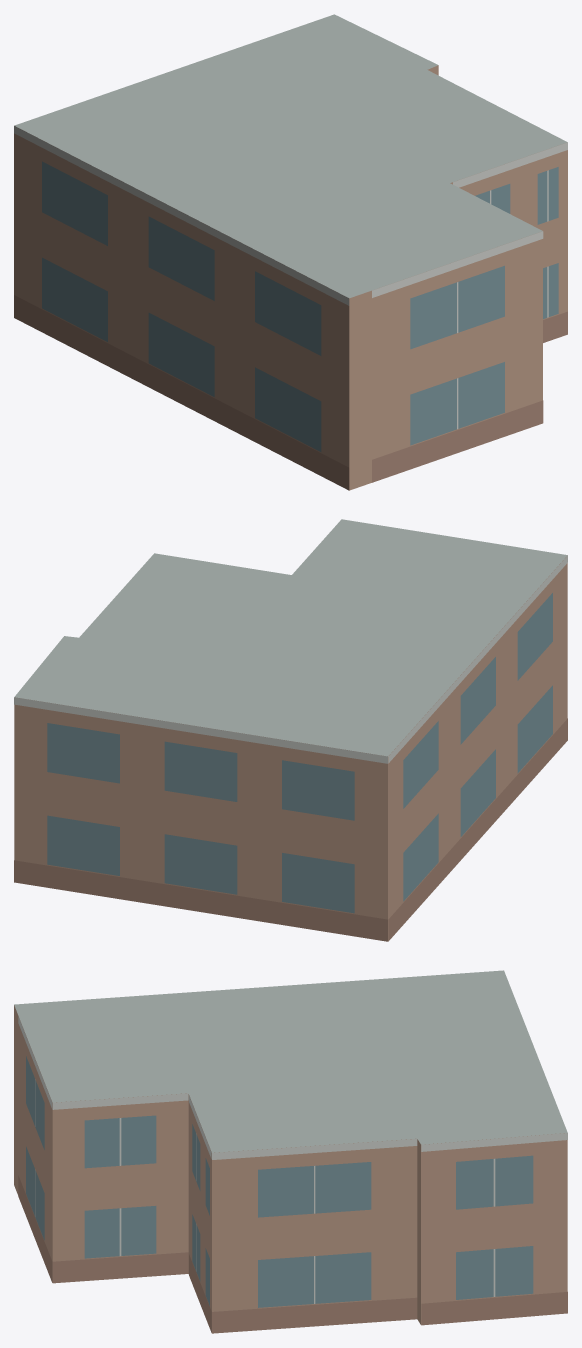
The model's file is survey-upis-32879588.glb.
3 renders of one model, top to bottom at view 1: azimuth 30°, elevation 25°; view 2: azimuth 150°, elevation 25°; view 3: azimuth 270°, elevation 25°, orthographic. The views are drawn at different scales.
Visible parts, largest first — view 1: survey-upis-32879588.tmp; view 2: survey-upis-32879588.tmp; view 3: survey-upis-32879588.tmp.
Part boxes in pixels (x1,y1,x2,y2): survey-upis-32879588.tmp: [14, 14, 567, 490]; survey-upis-32879588.tmp: [14, 519, 567, 941]; survey-upis-32879588.tmp: [14, 970, 567, 1333].
Bounding box in the file's own units: 13.23 × 6.1 × 16.96.
